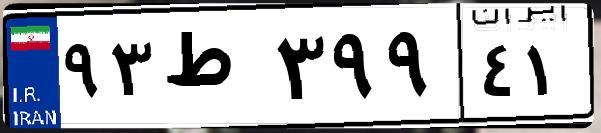1: (525, 38, 570, 115)
3: (270, 28, 330, 110), (110, 28, 158, 98)
4: (475, 38, 525, 113)
9: (385, 28, 445, 110), (330, 28, 385, 110), (57, 26, 110, 100)
ط: (158, 20, 270, 120)
